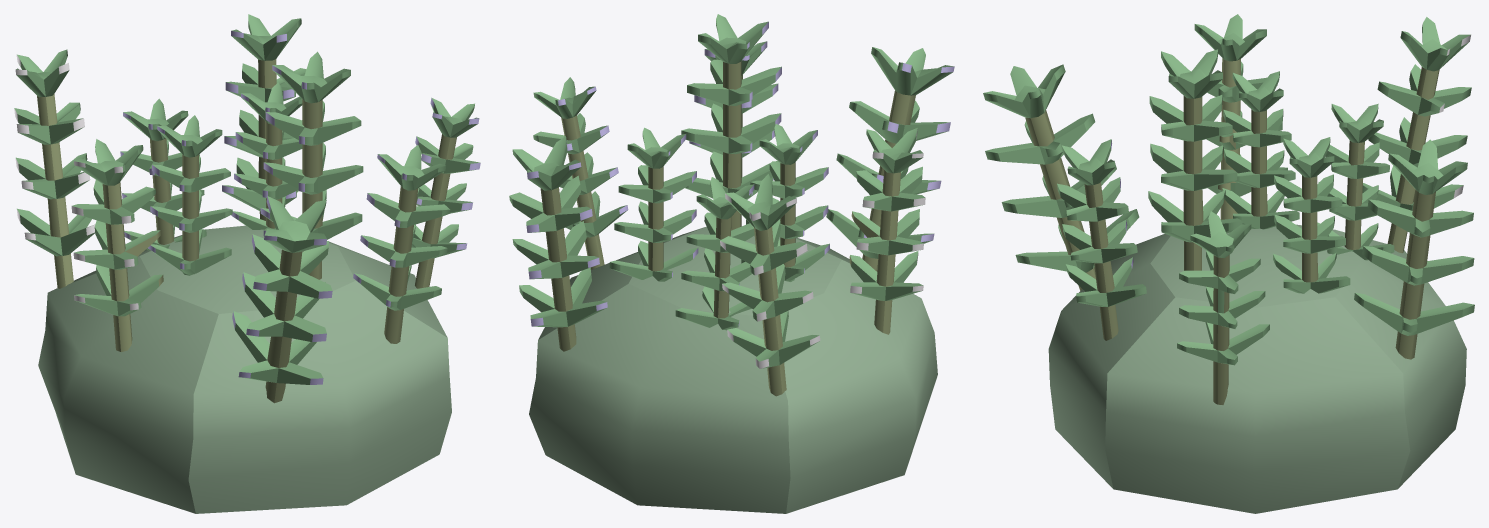
The model's file is thym.fbx.
3 views of the same model, side by side, from view 1: azimuth 30°, elevation 25°; view 2: azimuth 150°, elevation 25°; view 3: azimuth 270°, elevation 25° (orthographic). The views are drawn at different scales.
Parts seen in each view (by area): view 1: pCube12; view 2: pCube12; view 3: pCube12.
Part boxes in pixels (left/top/right/bottom): pCube12: left=14, top=14, right=480, bottom=513; pCube12: left=509, top=14, right=954, bottom=513; pCube12: left=983, top=14, right=1474, bottom=513.
Bounding box in the file's own units: 0.8336 × 0.7571 × 0.878.
